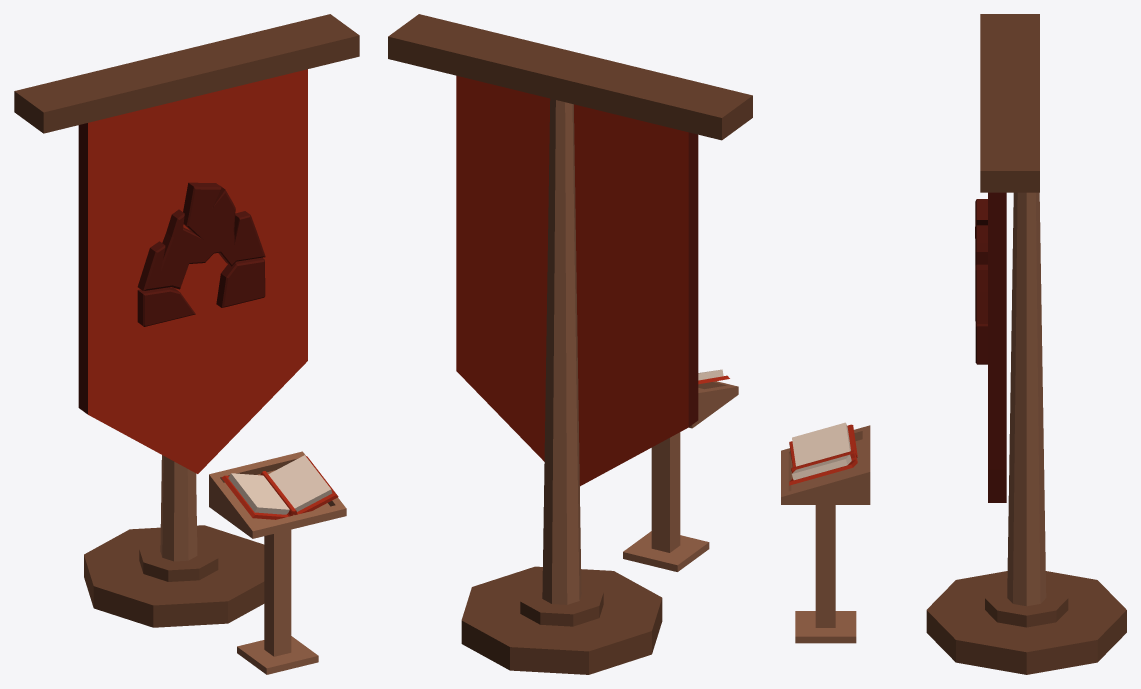
File: EstandardeVermelho.fbx
3 views of the same model, side by side, from view 1: azimuth 30°, elevation 25°; view 2: azimuth 150°, elevation 25°; view 3: azimuth 270°, elevation 25° (orthographic). The views are drawn at different scales.
Visible parts, largest first — view 1: EstandardeVermelho; view 2: EstandardeVermelho; view 3: EstandardeVermelho.
Boxes of the visible parts, bbox=[...] form: EstandardeVermelho: bbox=[14, 14, 359, 674]; EstandardeVermelho: bbox=[388, 14, 752, 674]; EstandardeVermelho: bbox=[781, 14, 1126, 674].
Size of the model in its own units: 223 by 357 by 207.
